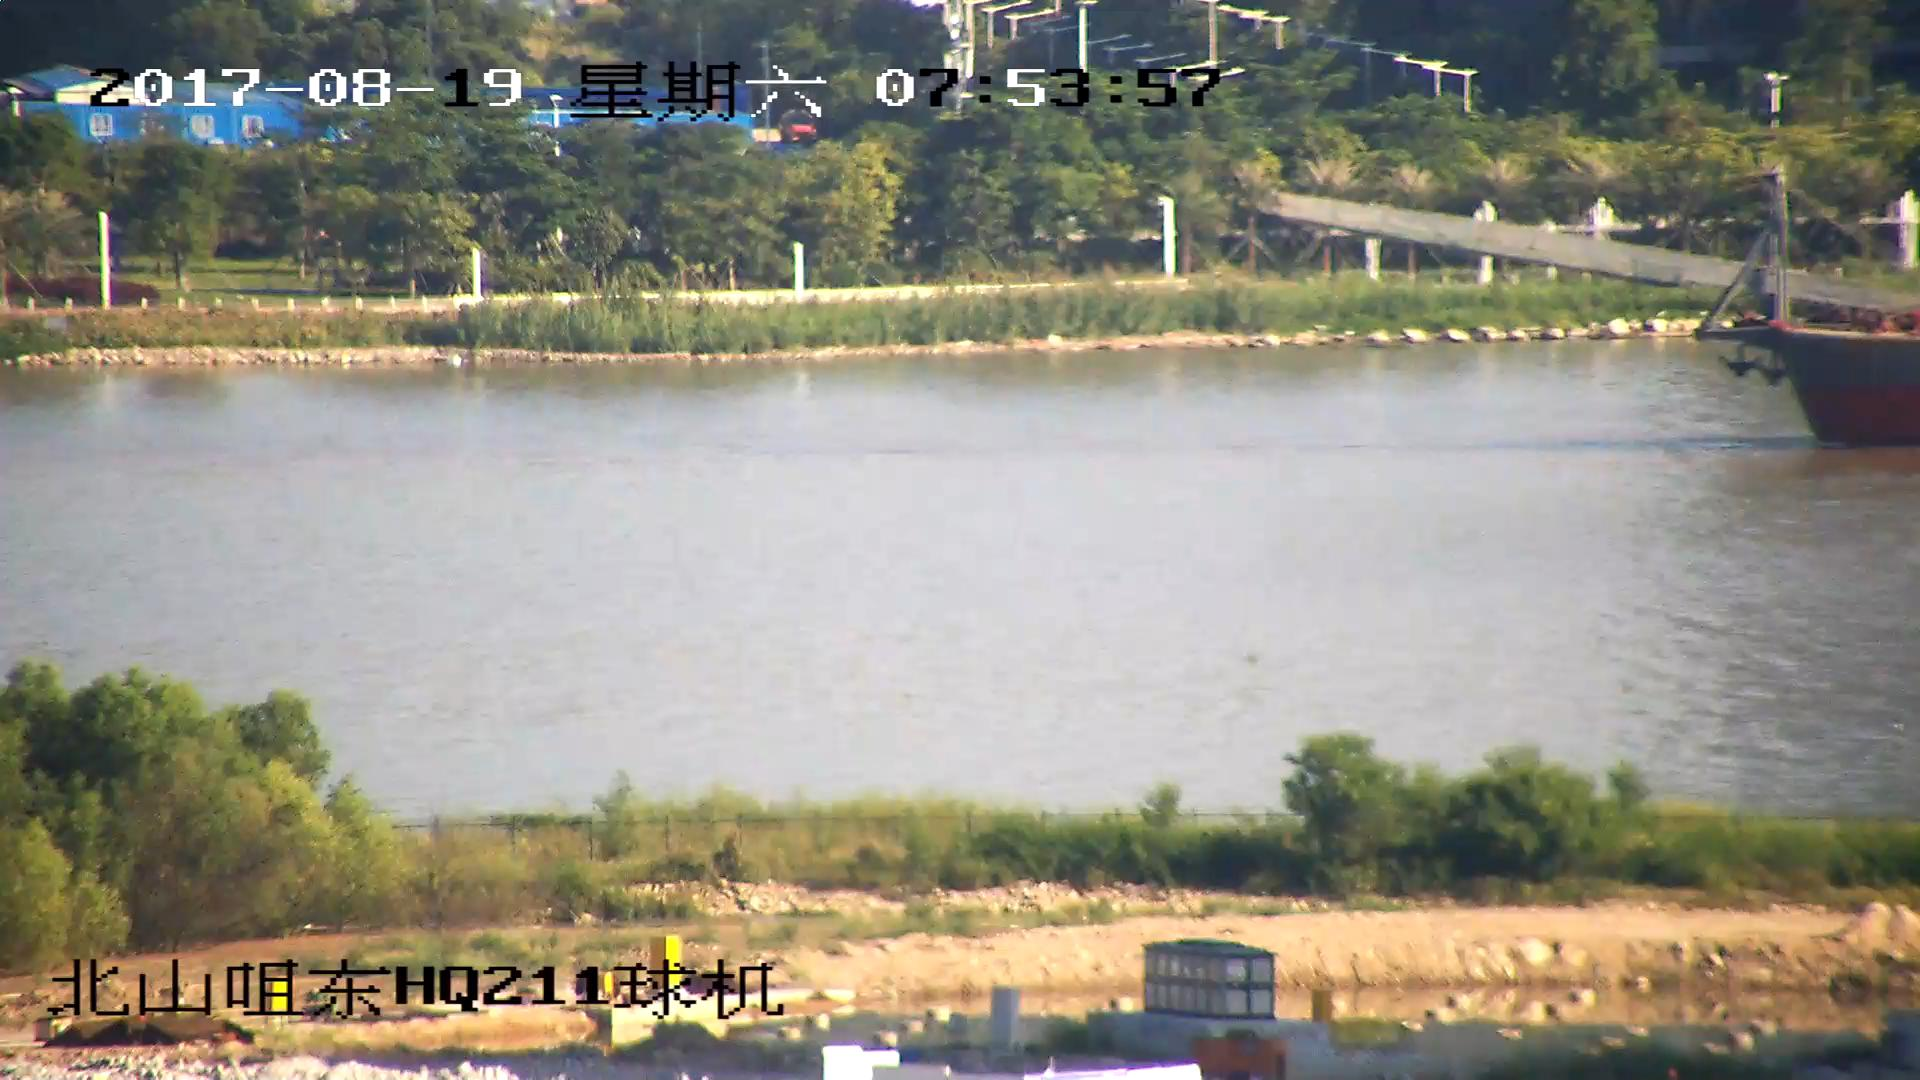bulk cargo carrier: (1266, 178, 1920, 450)
